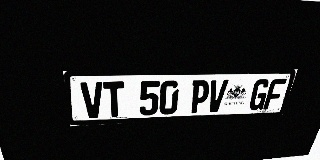0: (159, 80, 180, 115)
5: (140, 81, 160, 116)
F: (263, 79, 287, 110)
G: (248, 79, 271, 110)
P: (189, 80, 211, 113)
T: (103, 81, 124, 117)
V: (80, 82, 104, 118), (206, 80, 229, 112)
